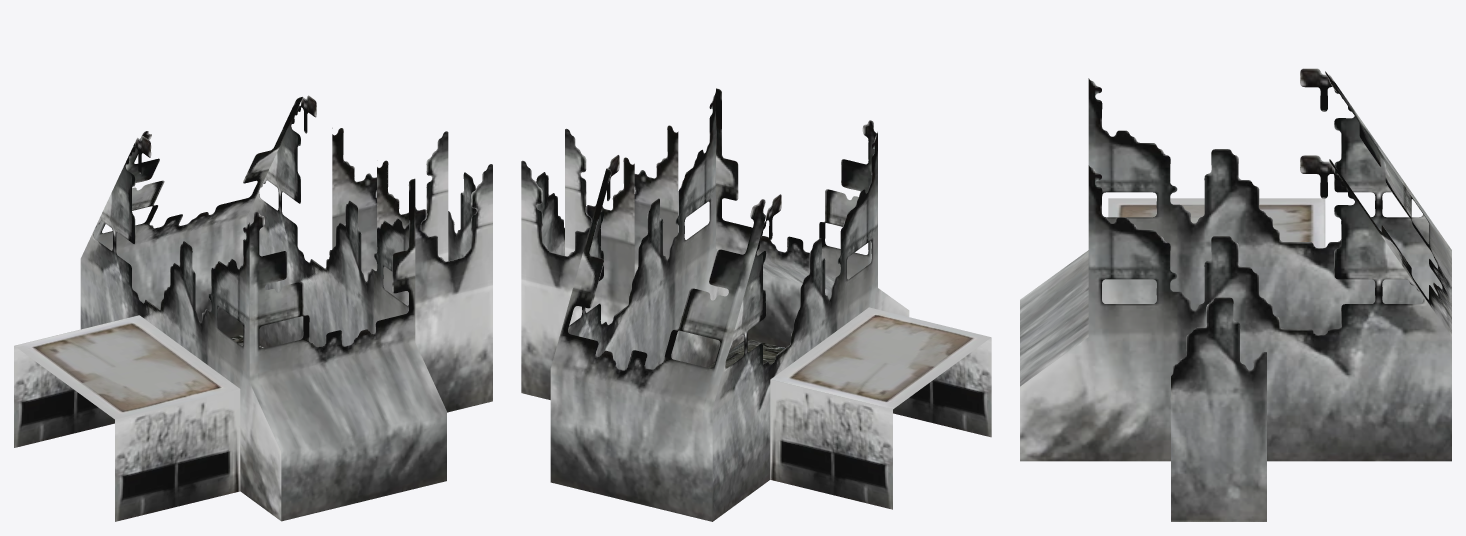
Rendered from trafcon_dam_hdtex.glb.
The picture shows the model from 3 angles, left to right: view 1: azimuth 30°, elevation 25°; view 2: azimuth 150°, elevation 25°; view 3: azimuth 270°, elevation 25°; orthographic projection. The views are drawn at different scales.
Parts seen in each view (by area): view 1: TrafConDam; view 2: TrafConDam; view 3: TrafConDam.
Part boxes in pixels (box(x1,y1,x2,y2)): TrafConDam: box(14, 95, 492, 521); TrafConDam: box(521, 88, 991, 521); TrafConDam: box(1020, 68, 1451, 521).
Bounding box in the file's own units: 23.29 × 20.43 × 19.91.
2 materials, 2 textured.
